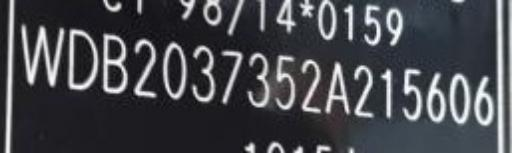letter: (18, 19, 64, 90), (66, 23, 98, 92), (100, 29, 130, 96), (132, 37, 160, 102), (322, 59, 352, 118), (160, 39, 188, 102), (244, 49, 272, 110), (190, 43, 216, 106), (218, 45, 244, 108), (272, 51, 298, 112), (296, 57, 322, 114), (350, 63, 376, 120), (400, 65, 424, 124), (424, 69, 448, 124), (448, 71, 472, 126), (472, 73, 496, 128), (378, 65, 398, 122)
